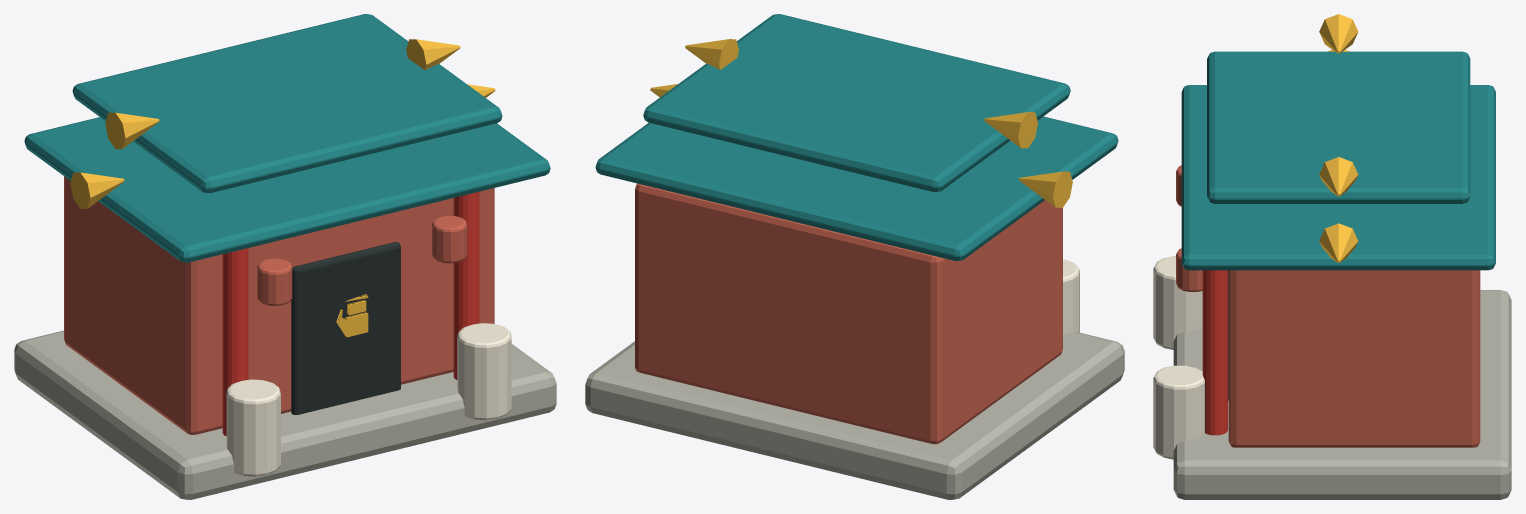
File: temple-v2.glb
3 renders of one model, left to right at view 1: azimuth 30°, elevation 25°; view 2: azimuth 150°, elevation 25°; view 3: azimuth 270°, elevation 25°, orthographic. The views are drawn at different scales.
Parts seen in each view (by area): view 1: NEIGHBOURHOOD TEMPLE KIT · Chalk; view 2: NEIGHBOURHOOD TEMPLE KIT · Chalk; view 3: NEIGHBOURHOOD TEMPLE KIT · Chalk.
Part boxes in pixels (x1=…): NEIGHBOURHOOD TEMPLE KIT · Chalk: x1=14, y1=14, x2=556, y2=499; NEIGHBOURHOOD TEMPLE KIT · Chalk: x1=585, y1=14, x2=1124, y2=499; NEIGHBOURHOOD TEMPLE KIT · Chalk: x1=1153, y1=14, x2=1511, y2=499.
Size of the model in its own units: 5.92 by 4.47 by 4.56.
1 material, 1 textured.
